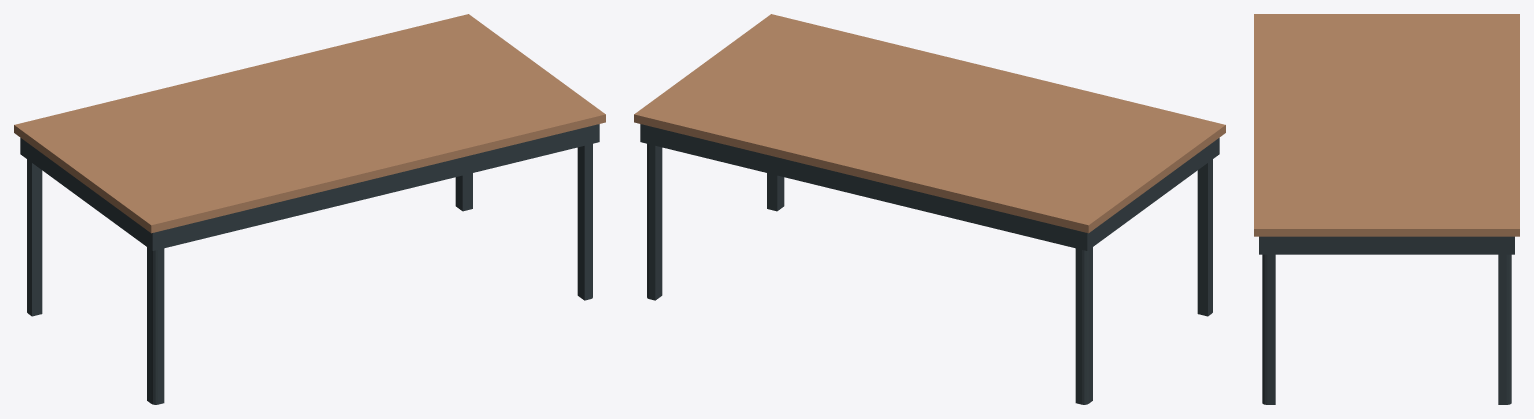
File: DiningTableV2.fbx
The picture shows the model from 3 angles, left to right: view 1: azimuth 30°, elevation 25°; view 2: azimuth 150°, elevation 25°; view 3: azimuth 270°, elevation 25°; orthographic projection. The views are drawn at different scales.
Parts seen in each view (by area): view 1: DiningTableV2; view 2: DiningTableV2; view 3: DiningTableV2.
Boxes of the visible parts, x1,y1,x2,y2 form: DiningTableV2: [14, 14, 605, 404]; DiningTableV2: [634, 14, 1225, 404]; DiningTableV2: [1254, 14, 1519, 404].
Bounding box in the file's own units: 223 × 86.63 × 116.
